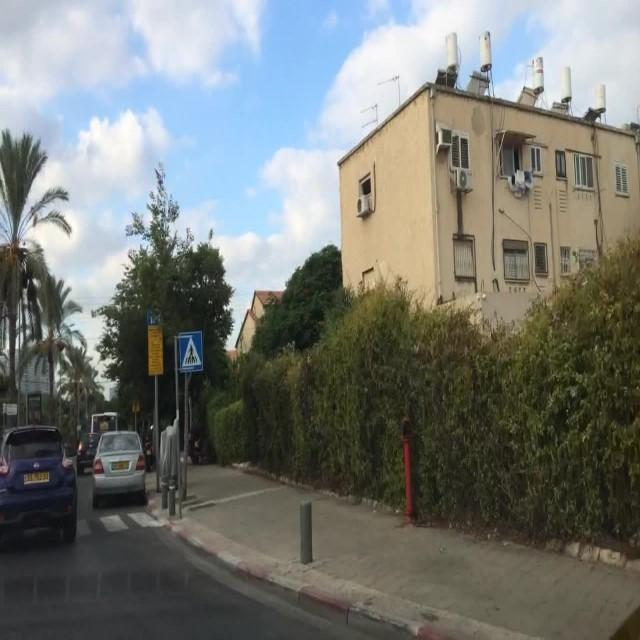normal: (0, 425, 76, 546), (92, 429, 148, 504)
